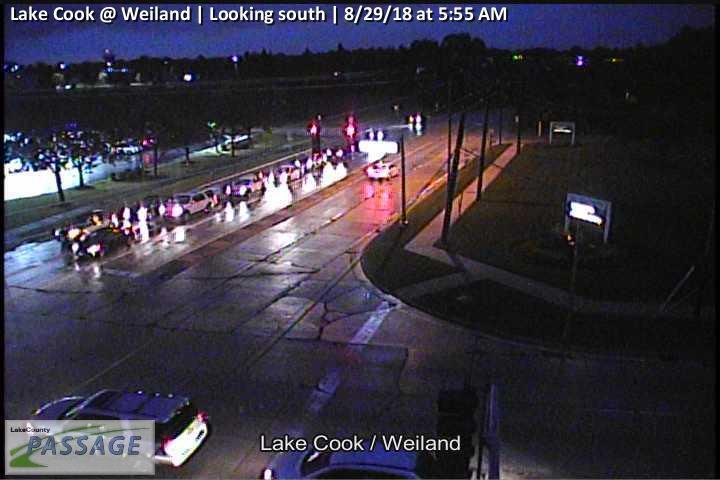SUV: (28, 387, 209, 467)
Sedan: (256, 434, 431, 480)
